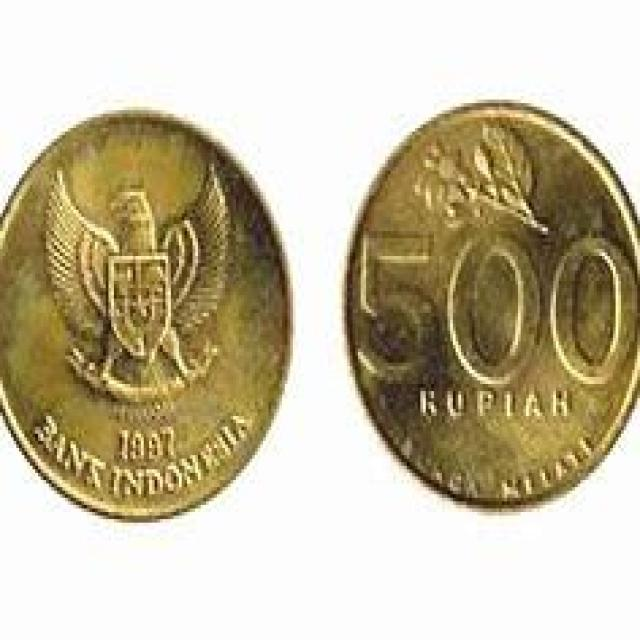500-kuning: (334, 80, 640, 527)
